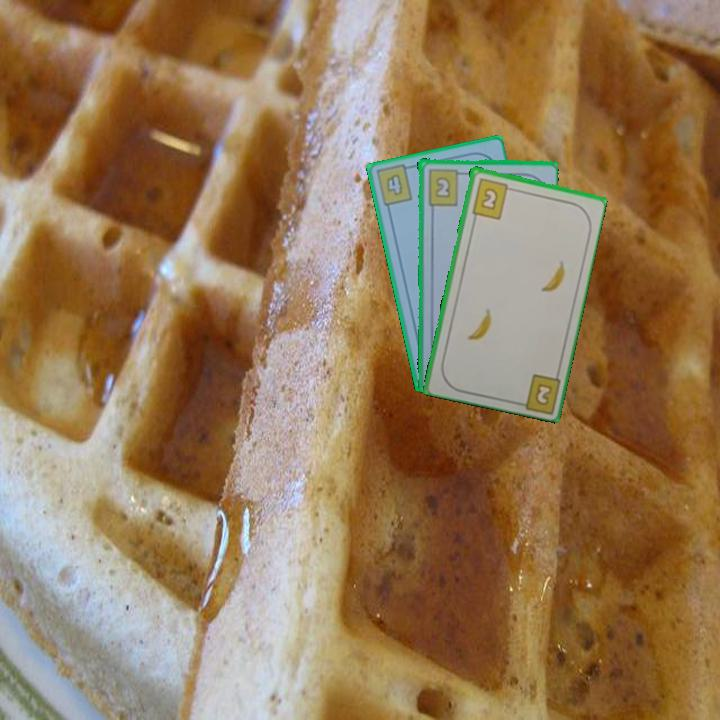2b: (468, 174, 516, 221), (424, 166, 467, 207), (531, 379, 555, 408)
4b: (375, 162, 416, 209)
